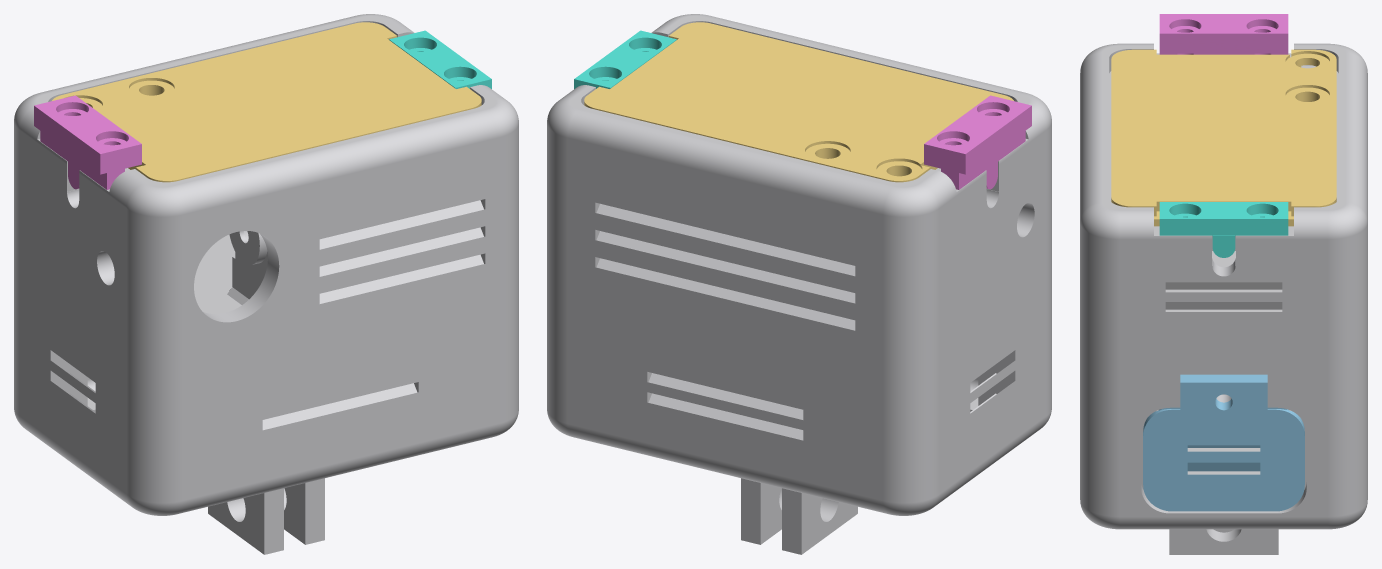
File: mini300.glb
The picture shows the model from 3 angles, left to right: view 1: azimuth 30°, elevation 25°; view 2: azimuth 150°, elevation 25°; view 3: azimuth 270°, elevation 25°; orthographic projection. The views are drawn at different scales.
Visible parts, largest first — view 1: =>[0:1:1:3], =>[0:1:1:5], =>[0:1:1:10], =>[0:1:1:11]; view 2: =>[0:1:1:3], =>[0:1:1:5], =>[0:1:1:10], =>[0:1:1:11]; view 3: =>[0:1:1:3], =>[0:1:1:5], =>[0:1:1:4], =>[0:1:1:10], =>[0:1:1:11].
Boxes of the visible parts, x1,y1,x2,y2 form: =>[0:1:1:3]: (14, 14, 518, 554); =>[0:1:1:5]: (52, 22, 481, 182); =>[0:1:1:10]: (34, 95, 141, 189); =>[0:1:1:11]: (389, 30, 491, 88); =>[0:1:1:3]: (547, 14, 1051, 554); =>[0:1:1:5]: (584, 22, 1013, 182); =>[0:1:1:10]: (924, 95, 1031, 189); =>[0:1:1:11]: (574, 30, 676, 88); =>[0:1:1:3]: (1080, 43, 1367, 554); =>[0:1:1:5]: (1111, 49, 1336, 226); =>[0:1:1:4]: (1143, 374, 1304, 511); =>[0:1:1:10]: (1159, 14, 1288, 54); =>[0:1:1:11]: (1159, 202, 1288, 257).
Bounding box in the file's own units: 0.0629 × 0.0655 × 0.0395.
